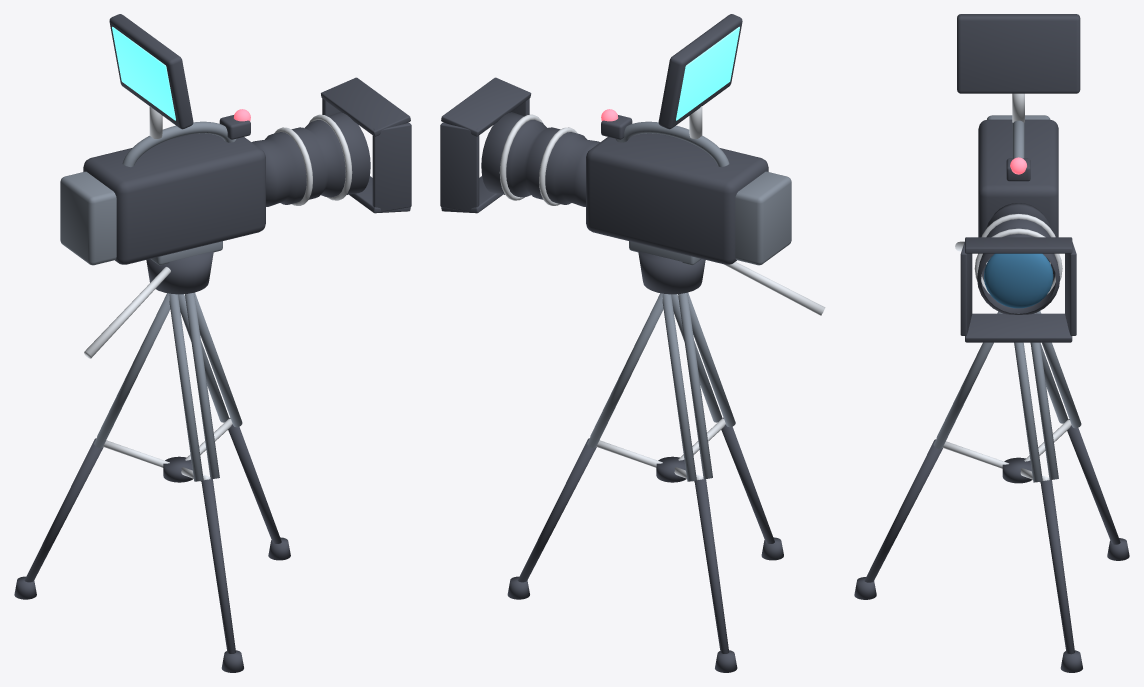
Rendered from studio_camera.glb.
The picture shows the model from 3 angles, left to right: view 1: azimuth 30°, elevation 25°; view 2: azimuth 150°, elevation 25°; view 3: azimuth 270°, elevation 25°; orthographic projection.
Visible parts, largest first — view 1: CamChassis, ZoomLensBarrel, RearBatteryPack, MatteBoxR, MonitorFrame, MonitorDisplay, MatteBoxTop, TripodUpB_2, FluidHeadBase, TripodUpA_2, TripodLow_2, TripodUpA_1 (+10 smaller); view 2: CamChassis, ZoomLensBarrel, RearBatteryPack, MatteBoxL, MonitorFrame, MonitorDisplay, MatteBoxTop, FluidHeadBase, TripodUpB_1, TripodUpA_1, TripodLow_1, TripodUpA_0 (+10 smaller); view 3: MonitorFrame, CamChassis, OpticalElement, MatteBoxBot, ZoomLensBarrel, TripodLow_0, MatteBoxTop, TripodLow_2, TripodUpB_0, TripodUpA_0, TripodLow_1, TripodUpA_2 (+9 smaller).
Part boxes in pixels (x1,y1,x2,y2): CamChassis: [83, 133, 265, 264]; ZoomLensBarrel: [251, 112, 370, 206]; RearBatteryPack: [60, 171, 116, 265]; MatteBoxR: [372, 122, 411, 211]; MonitorFrame: [109, 14, 193, 129]; MonitorDisplay: [112, 26, 175, 120]; MatteBoxTop: [321, 77, 410, 136]; TripodUpB_2: [169, 293, 203, 481]; FluidHeadBase: [146, 251, 213, 294]; TripodUpA_2: [185, 293, 219, 479]; TripodLow_2: [201, 479, 235, 653]; TripodUpA_1: [94, 293, 175, 448]; CamChassis: [586, 133, 768, 264]; ZoomLensBarrel: [481, 112, 600, 206]; RearBatteryPack: [735, 171, 791, 265]; MatteBoxL: [440, 122, 479, 211]; MonitorFrame: [658, 14, 742, 129]; MonitorDisplay: [676, 26, 739, 120]; MatteBoxTop: [441, 77, 531, 136]; FluidHeadBase: [638, 251, 705, 294]; TripodUpB_1: [662, 294, 696, 481]; TripodUpA_1: [678, 293, 712, 479]; TripodLow_1: [694, 479, 728, 653]; TripodUpA_0: [587, 293, 668, 448]; MonitorFrame: [957, 14, 1080, 93]; CamChassis: [978, 119, 1058, 237]; OpticalElement: [984, 253, 1053, 308]; MatteBoxBot: [965, 313, 1072, 342]; ZoomLensBarrel: [977, 203, 1059, 314]; TripodLow_0: [1040, 480, 1074, 654]; MatteBoxTop: [965, 237, 1072, 253]; TripodLow_2: [864, 439, 942, 582]; TripodUpB_0: [1014, 342, 1042, 482]; TripodUpA_0: [1030, 313, 1058, 479]; TripodLow_1: [1067, 419, 1120, 544]; TripodUpA_2: [933, 312, 1002, 449].
Size of the model in its own units: 1.41 by 2.37 by 1.03.
